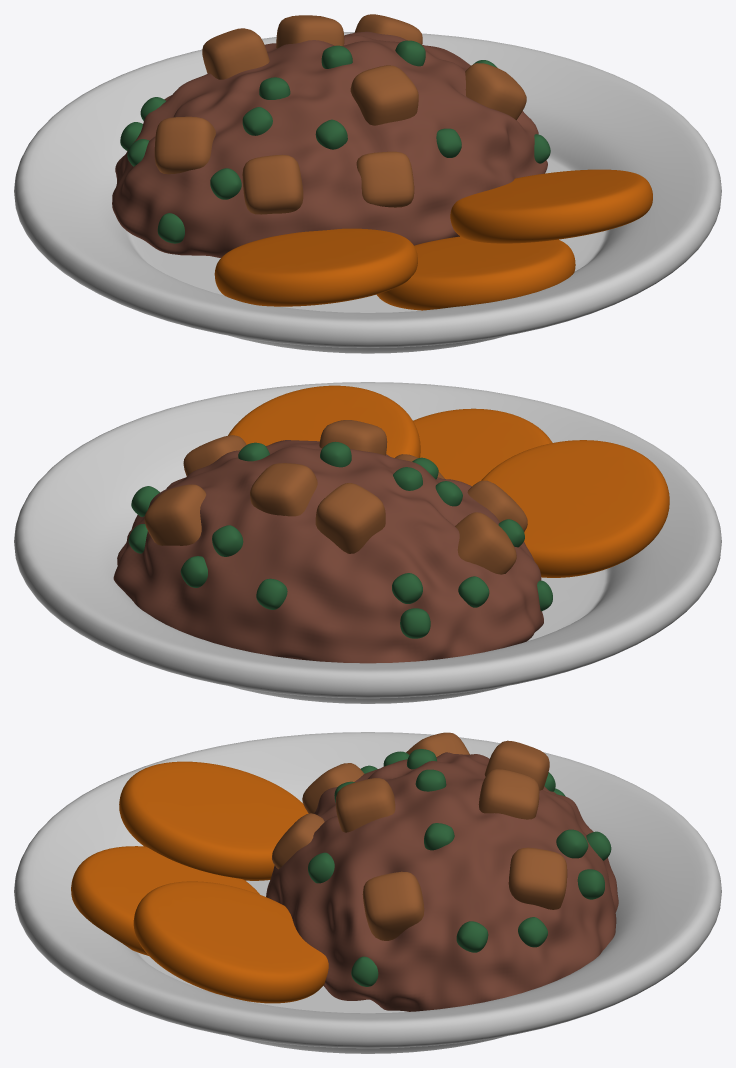
File: haggis-3d-icon-190305401949.glb
The picture shows the model from 3 angles, top to bottom: view 1: azimuth 30°, elevation 25°; view 2: azimuth 150°, elevation 25°; view 3: azimuth 270°, elevation 25°; orthographic projection.
Parts seen in each view (by area): view 1: Plate, Innards, Fried Potato, Meat, Peas; view 2: Plate, Innards, Fried Potato, Meat, Peas; view 3: Plate, Innards, Fried Potato, Meat, Peas.
Boxes of the visible parts, bbox=[...] form: Plate: bbox=[14, 32, 721, 353]; Innards: bbox=[112, 31, 547, 257]; Fried Potato: bbox=[214, 169, 652, 310]; Meat: bbox=[154, 14, 526, 214]; Peas: bbox=[120, 40, 550, 243]; Plate: bbox=[14, 382, 721, 703]; Innards: bbox=[113, 440, 543, 663]; Fried Potato: bbox=[228, 385, 669, 577]; Meat: bbox=[144, 420, 527, 574]; Peas: bbox=[128, 441, 552, 638]; Plate: bbox=[14, 732, 721, 1053]; Innards: bbox=[266, 752, 618, 1011]; Fried Potato: bbox=[71, 761, 328, 1003]; Meat: bbox=[272, 732, 567, 940]; Peas: bbox=[308, 749, 611, 986].
Size of the model in its own units: 2.01 by 0.5713 by 2.01.
